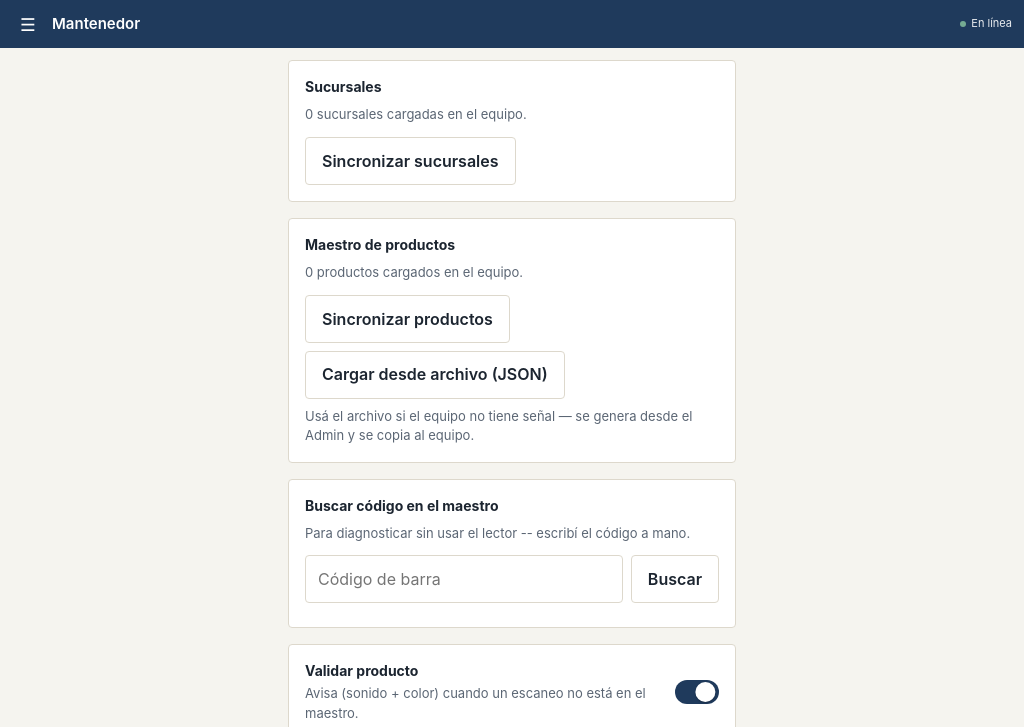
Test: MantenedorPage › muestra un error si la sincronizacion de productos con el servidor falla
This screenshot has width=1024, height=727.
What coordinates should you click on to do the following:
click the button "Sincronizar productos"
I would click on:
 (407, 319)
Its box is [305,295,510,343].
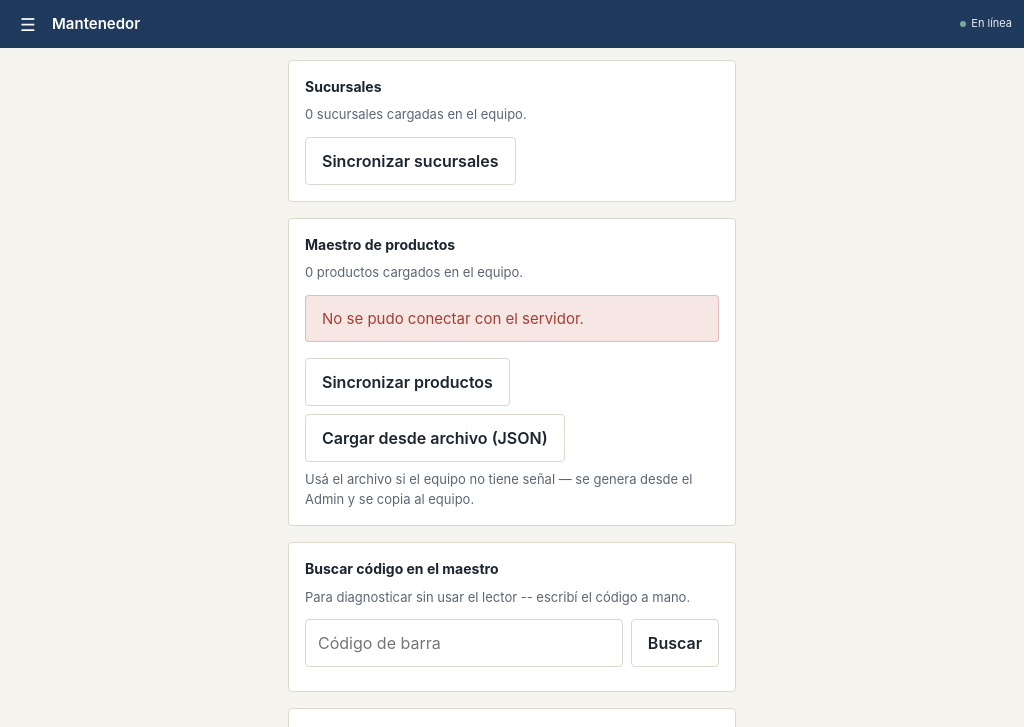
Expected: the message reads "No se pudo conectar con el servidor.", [322,309,584,328]
